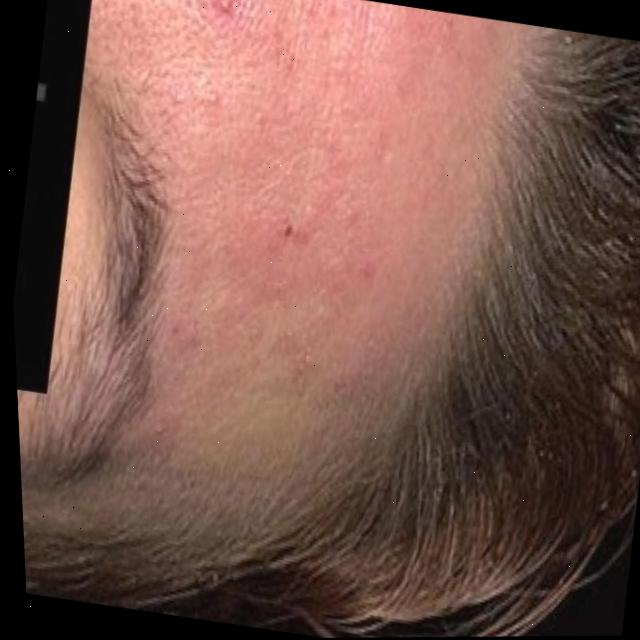Rosacea: (117, 0, 490, 441)
